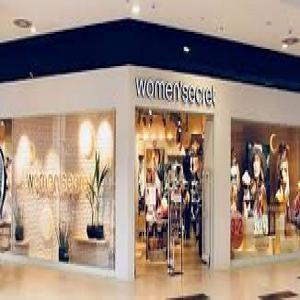women_secret: (156, 35, 288, 105)
